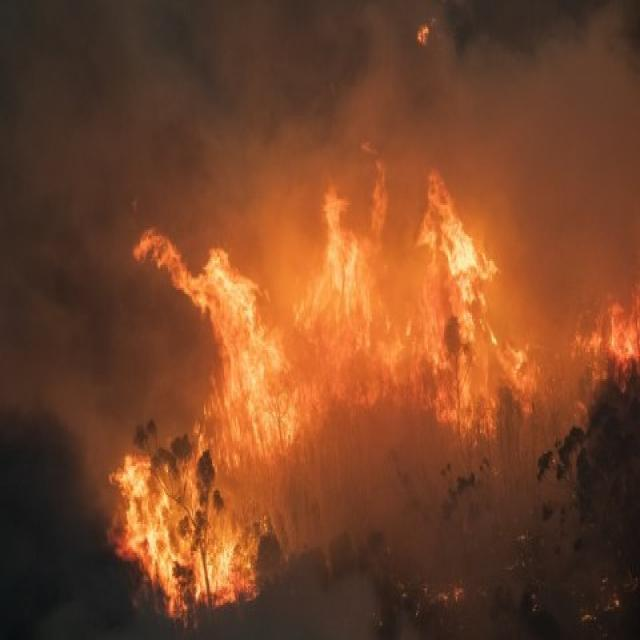Fire: (72, 196, 302, 608), (308, 147, 530, 436), (550, 251, 640, 413)
Smoke: (306, 435, 532, 640), (56, 10, 302, 196), (449, 0, 639, 217), (301, 0, 454, 154)
